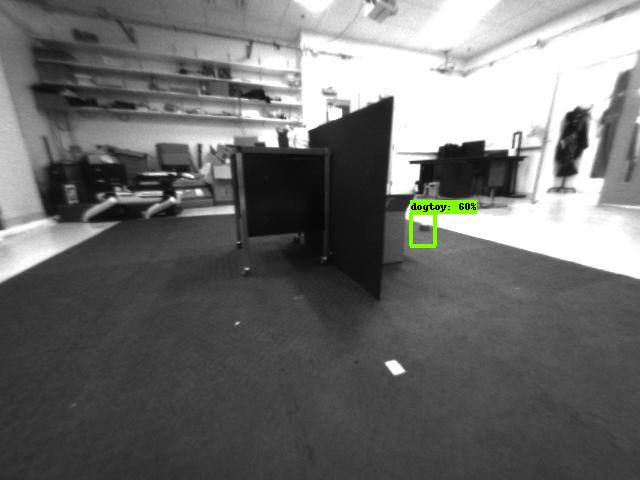dogtoy: (412, 212, 436, 243)
